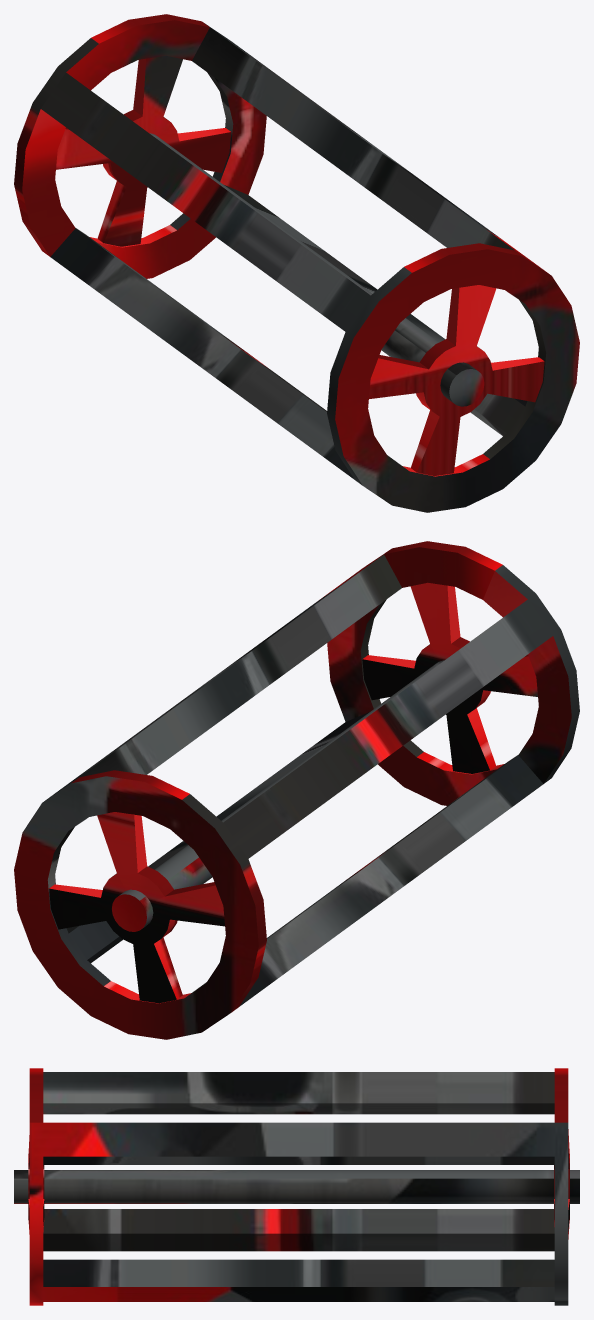
Rendered from SM_大型割草机割草.fbx.
3 views of the same model, one above another, from view 1: azimuth 30°, elevation 25°; view 2: azimuth 150°, elevation 25°; view 3: azimuth 270°, elevation 25° (orthographic). The views are drawn at different scales.
Visible parts, largest first — view 1: pCylinder9; view 2: pCylinder9; view 3: pCylinder9.
Part boxes in pixels (x1=…): pCylinder9: x1=14, y1=14, x2=579, y2=512; pCylinder9: x1=14, y1=541, x2=579, y2=1039; pCylinder9: x1=14, y1=1068, x2=579, y2=1305.
Size of the model in its own units: 43.87 by 43.87 by 105.
